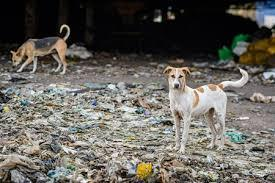normal_dogs: (163, 59, 255, 151), (9, 25, 76, 76)
